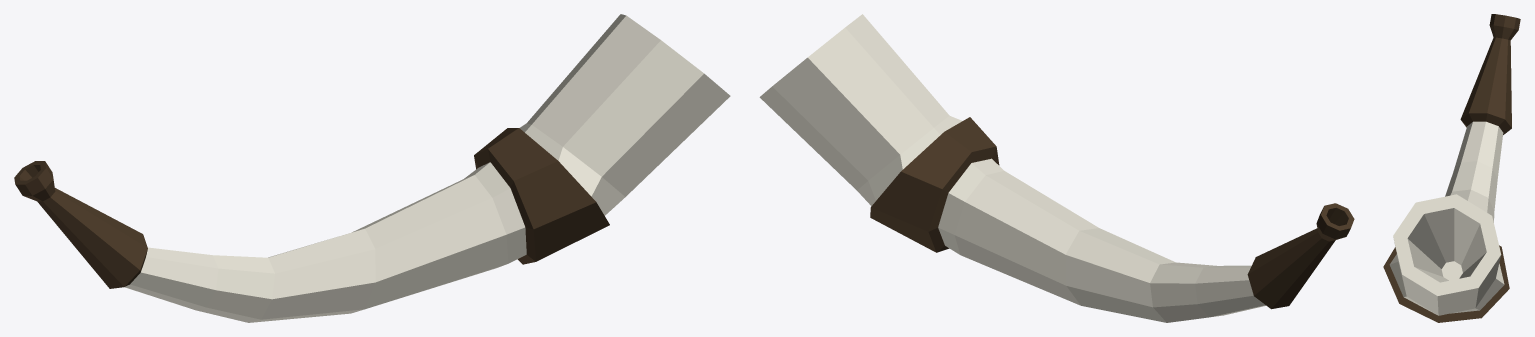
The model's file is VikingBoy_Horn.fbx.
The picture shows the model from 3 angles, left to right: view 1: azimuth 30°, elevation 25°; view 2: azimuth 150°, elevation 25°; view 3: azimuth 270°, elevation 25°; orthographic projection. The views are drawn at different scales.
Parts seen in each view (by area): view 1: VikingBoy_Horn; view 2: VikingBoy_Horn; view 3: VikingBoy_Horn.
Boxes of the visible parts, left/top/right/bottom form: VikingBoy_Horn: left=14, top=14, right=730, bottom=322; VikingBoy_Horn: left=759, top=14, right=1354, bottom=322; VikingBoy_Horn: left=1383, top=14, right=1520, bottom=322.
Bounding box in the file's own units: 31.46 × 10.43 × 7.35.
